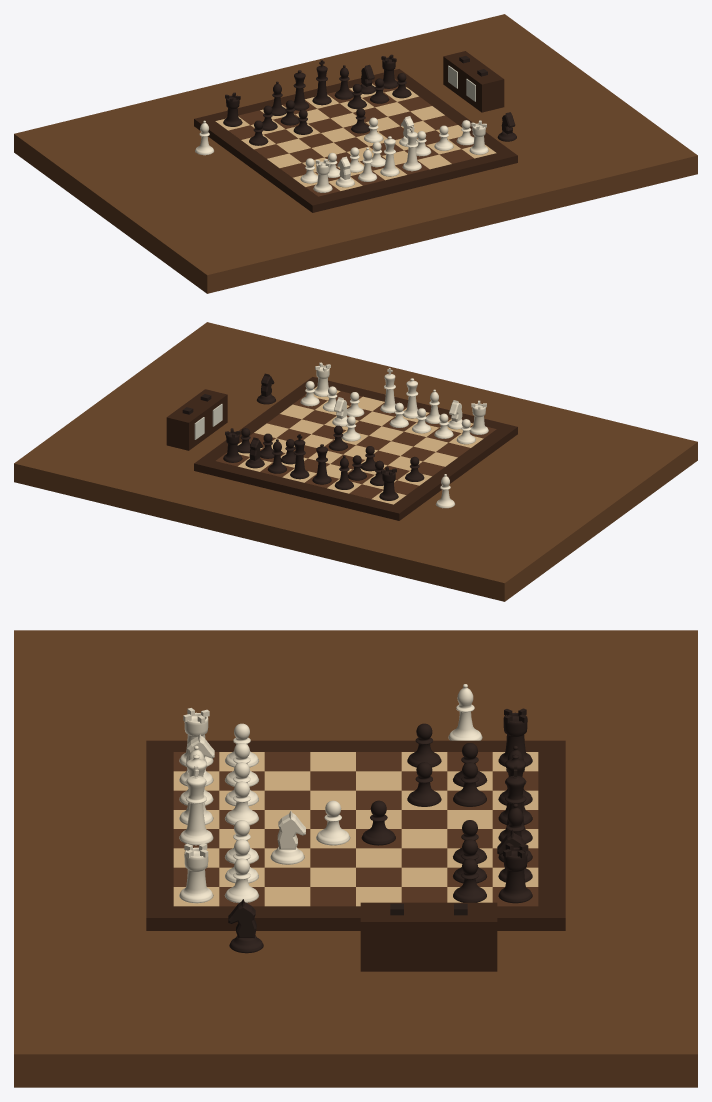
File: chess.obj
The picture shows the model from 3 angles, top to bottom: view 1: azimuth 30°, elevation 25°; view 2: azimuth 150°, elevation 25°; view 3: azimuth 270°, elevation 25°; orthographic projection. The views are drawn at different scales.
Visible parts, largest first — view 1: table, board-frame, board-dark-squares, board-light-squares, clock-case, white-king-e1, black-king-e8, black-rook-a8, white-rook-h1, white-rook-a1, white-queen-d1; view 2: table, board-frame, board-dark-squares, board-light-squares, clock-case, black-king-e8, black-rook-a8, black-rook-h8, black-queen-d8, white-rook-a1, white-king-e1; view 3: table, board-dark-squares, board-frame, board-light-squares, clock-case, white-king-e1, black-rook-h8, white-rook-h1, white-knight-f3, captured-black-knight, black-rook-a8, captured-white-bishop (+10 smaller).
Part boxes in pixels (x1,y1,x2,y2): table: (14,14,697,293); board-frame: (194,69,517,212); board-dark-squares: (228,78,474,196); board-light-squares: (215,84,496,190); clock-case: (443,51,504,112); white-king-e1: (402,126,421,171); black-king-e8: (312,60,331,105); black-rook-a8: (223,92,242,126); white-rook-h1: (469,120,488,154); white-rook-a1: (313,159,332,192); white-queen-d1: (380,136,399,176); table: (14,322,697,601); board-frame: (194,377,517,520); board-dark-squares: (215,391,496,498); board-light-squares: (237,386,483,504); clock-case: (166,389,227,450); black-king-e8: (290,434,309,479); black-rook-a8: (379,466,398,500); black-rook-h8: (223,428,242,462); black-queen-d8: (312,444,331,484); white-rook-a1: (469,400,488,434); white-king-e1: (380,368,395,413); table: (14,630,697,1087); board-dark-squares: (173,752,538,906); board-frame: (146,740,565,930); board-light-squares: (173,752,538,906); clock-case: (360,902,497,971); white-king-e1: (179,765,213,845); black-rook-h8: (498,843,532,903); white-rook-h1: (179,843,213,903); white-knight-f3: (270,810,305,864); captured-black-knight: (228,899,263,953); black-rook-a8: (498,708,532,766); captured-white-bishop: (448,684,482,740).
Size of the model in its own units: 1.1 by 0.1436 by 0.75.
